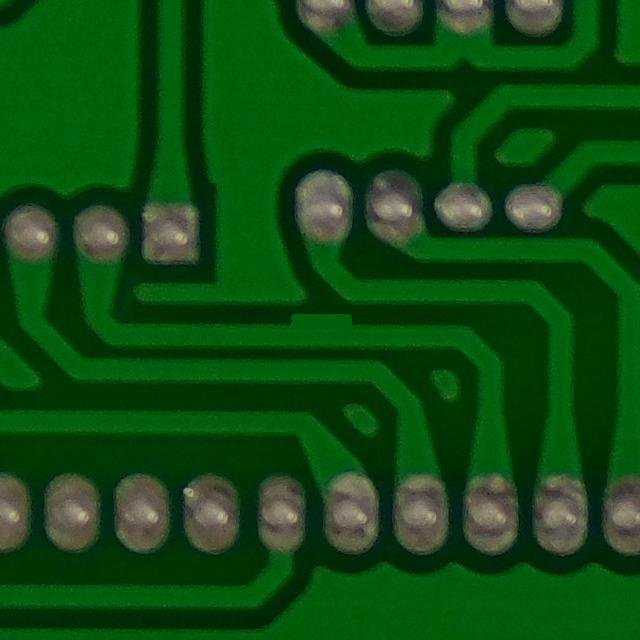spur: (273, 299, 368, 342)
